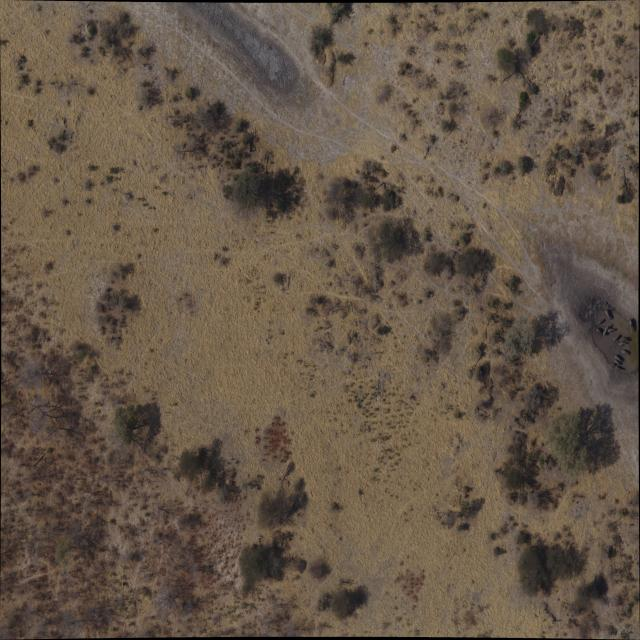elephant: (627, 318, 634, 334), (604, 308, 612, 320), (602, 324, 610, 336), (614, 354, 622, 362), (612, 334, 620, 342), (620, 349, 630, 355), (618, 341, 628, 347), (606, 327, 616, 333), (616, 365, 624, 372), (613, 358, 620, 366), (596, 327, 602, 336), (619, 337, 629, 342), (597, 318, 605, 324), (604, 301, 608, 306), (610, 363, 616, 366)
